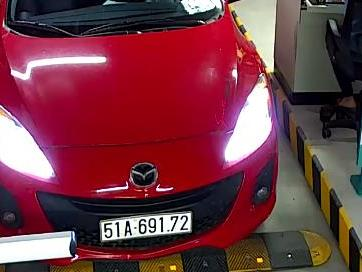number: (101, 211, 193, 242)
